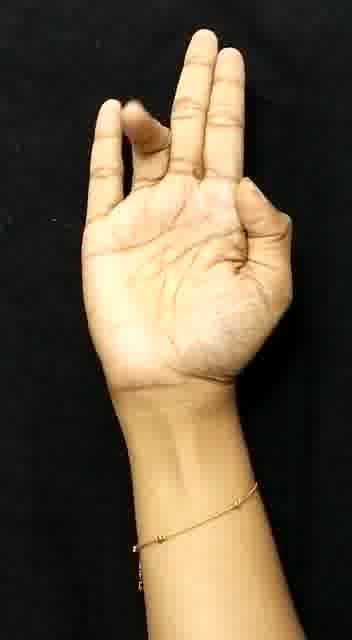tripataka: (85, 24, 309, 406)
